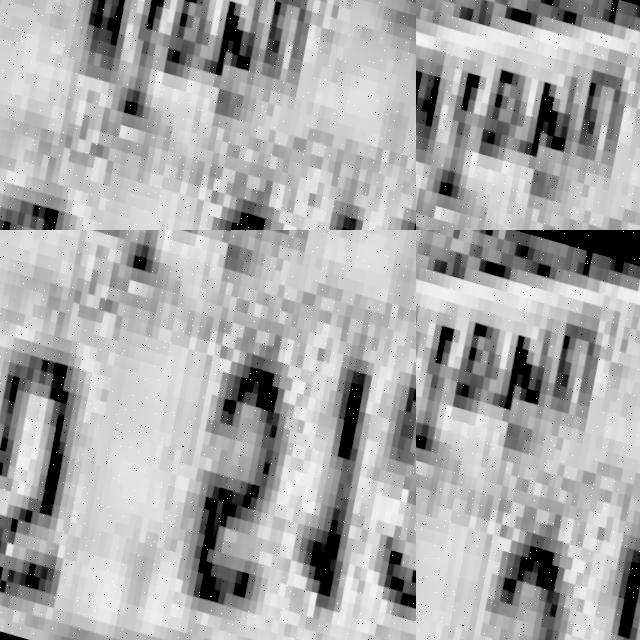license-plate: (0, 230, 416, 640), (0, 0, 416, 230), (416, 230, 640, 640), (416, 0, 640, 230)
